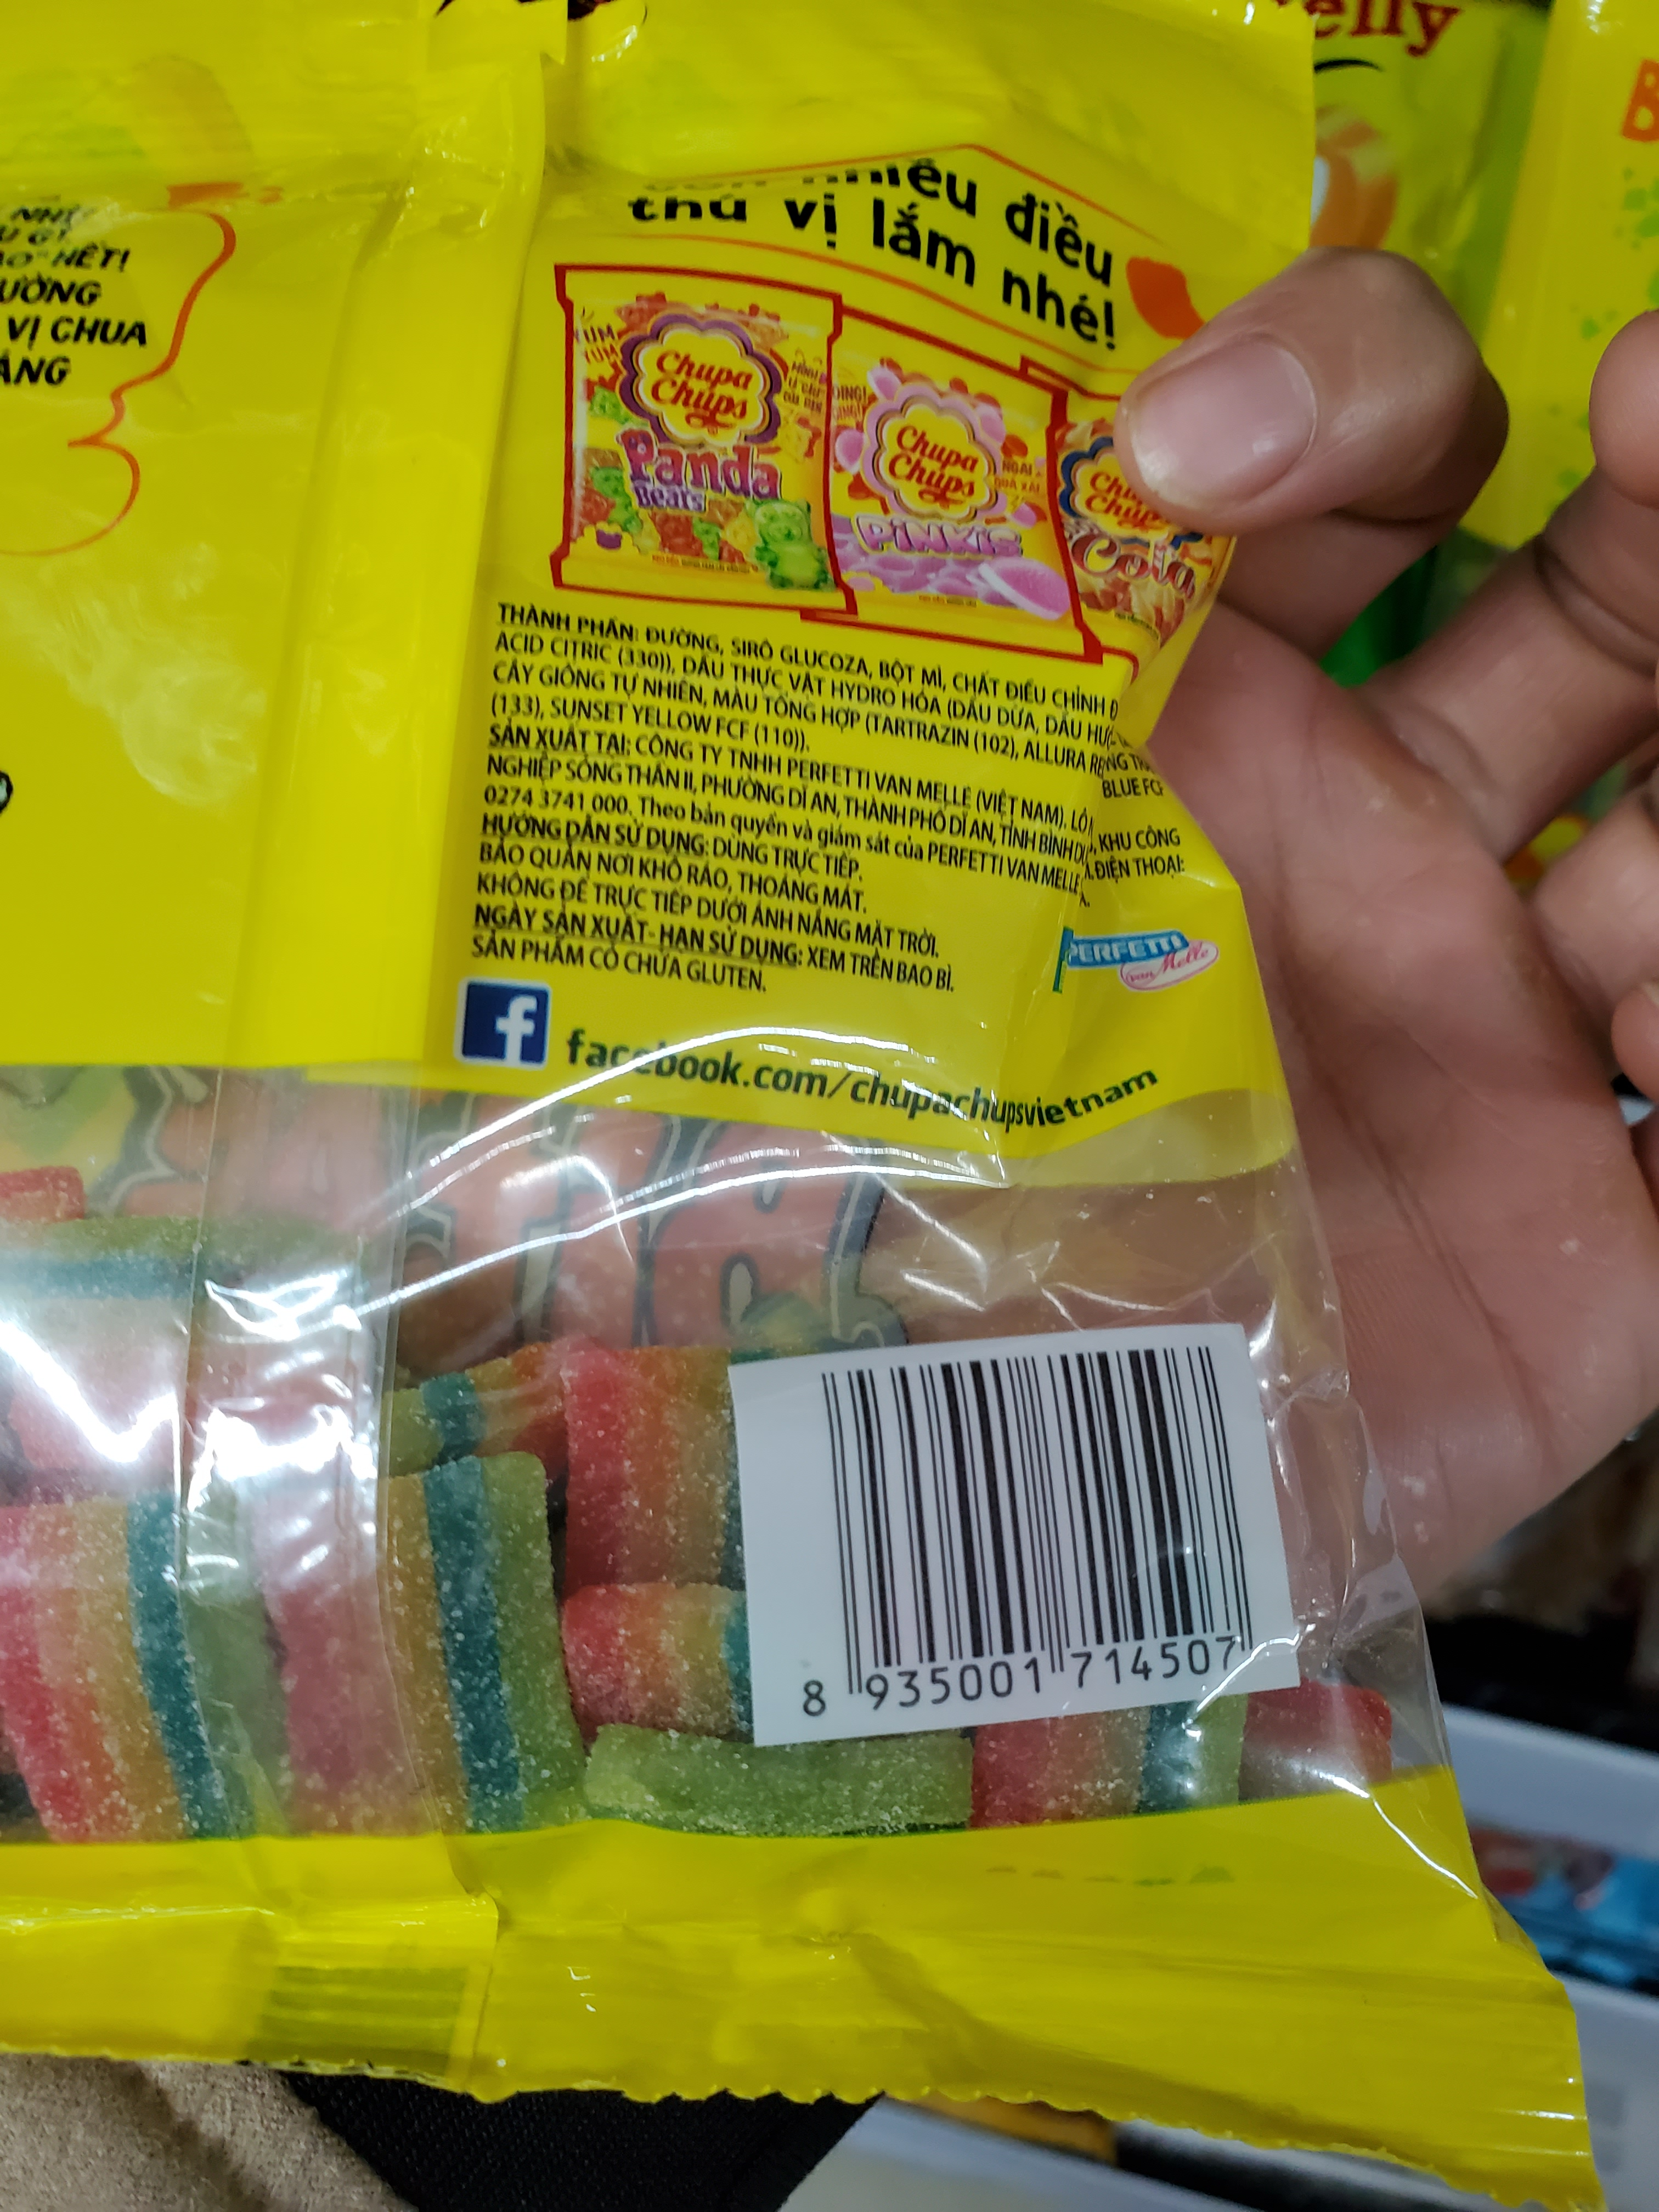barcode: (723, 1332, 1304, 1730)
